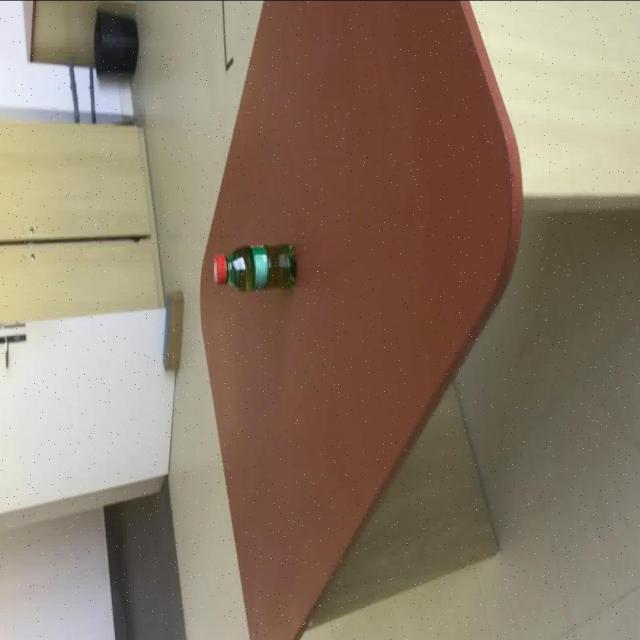Guarana: (212, 243, 296, 294), (212, 244, 270, 294)
